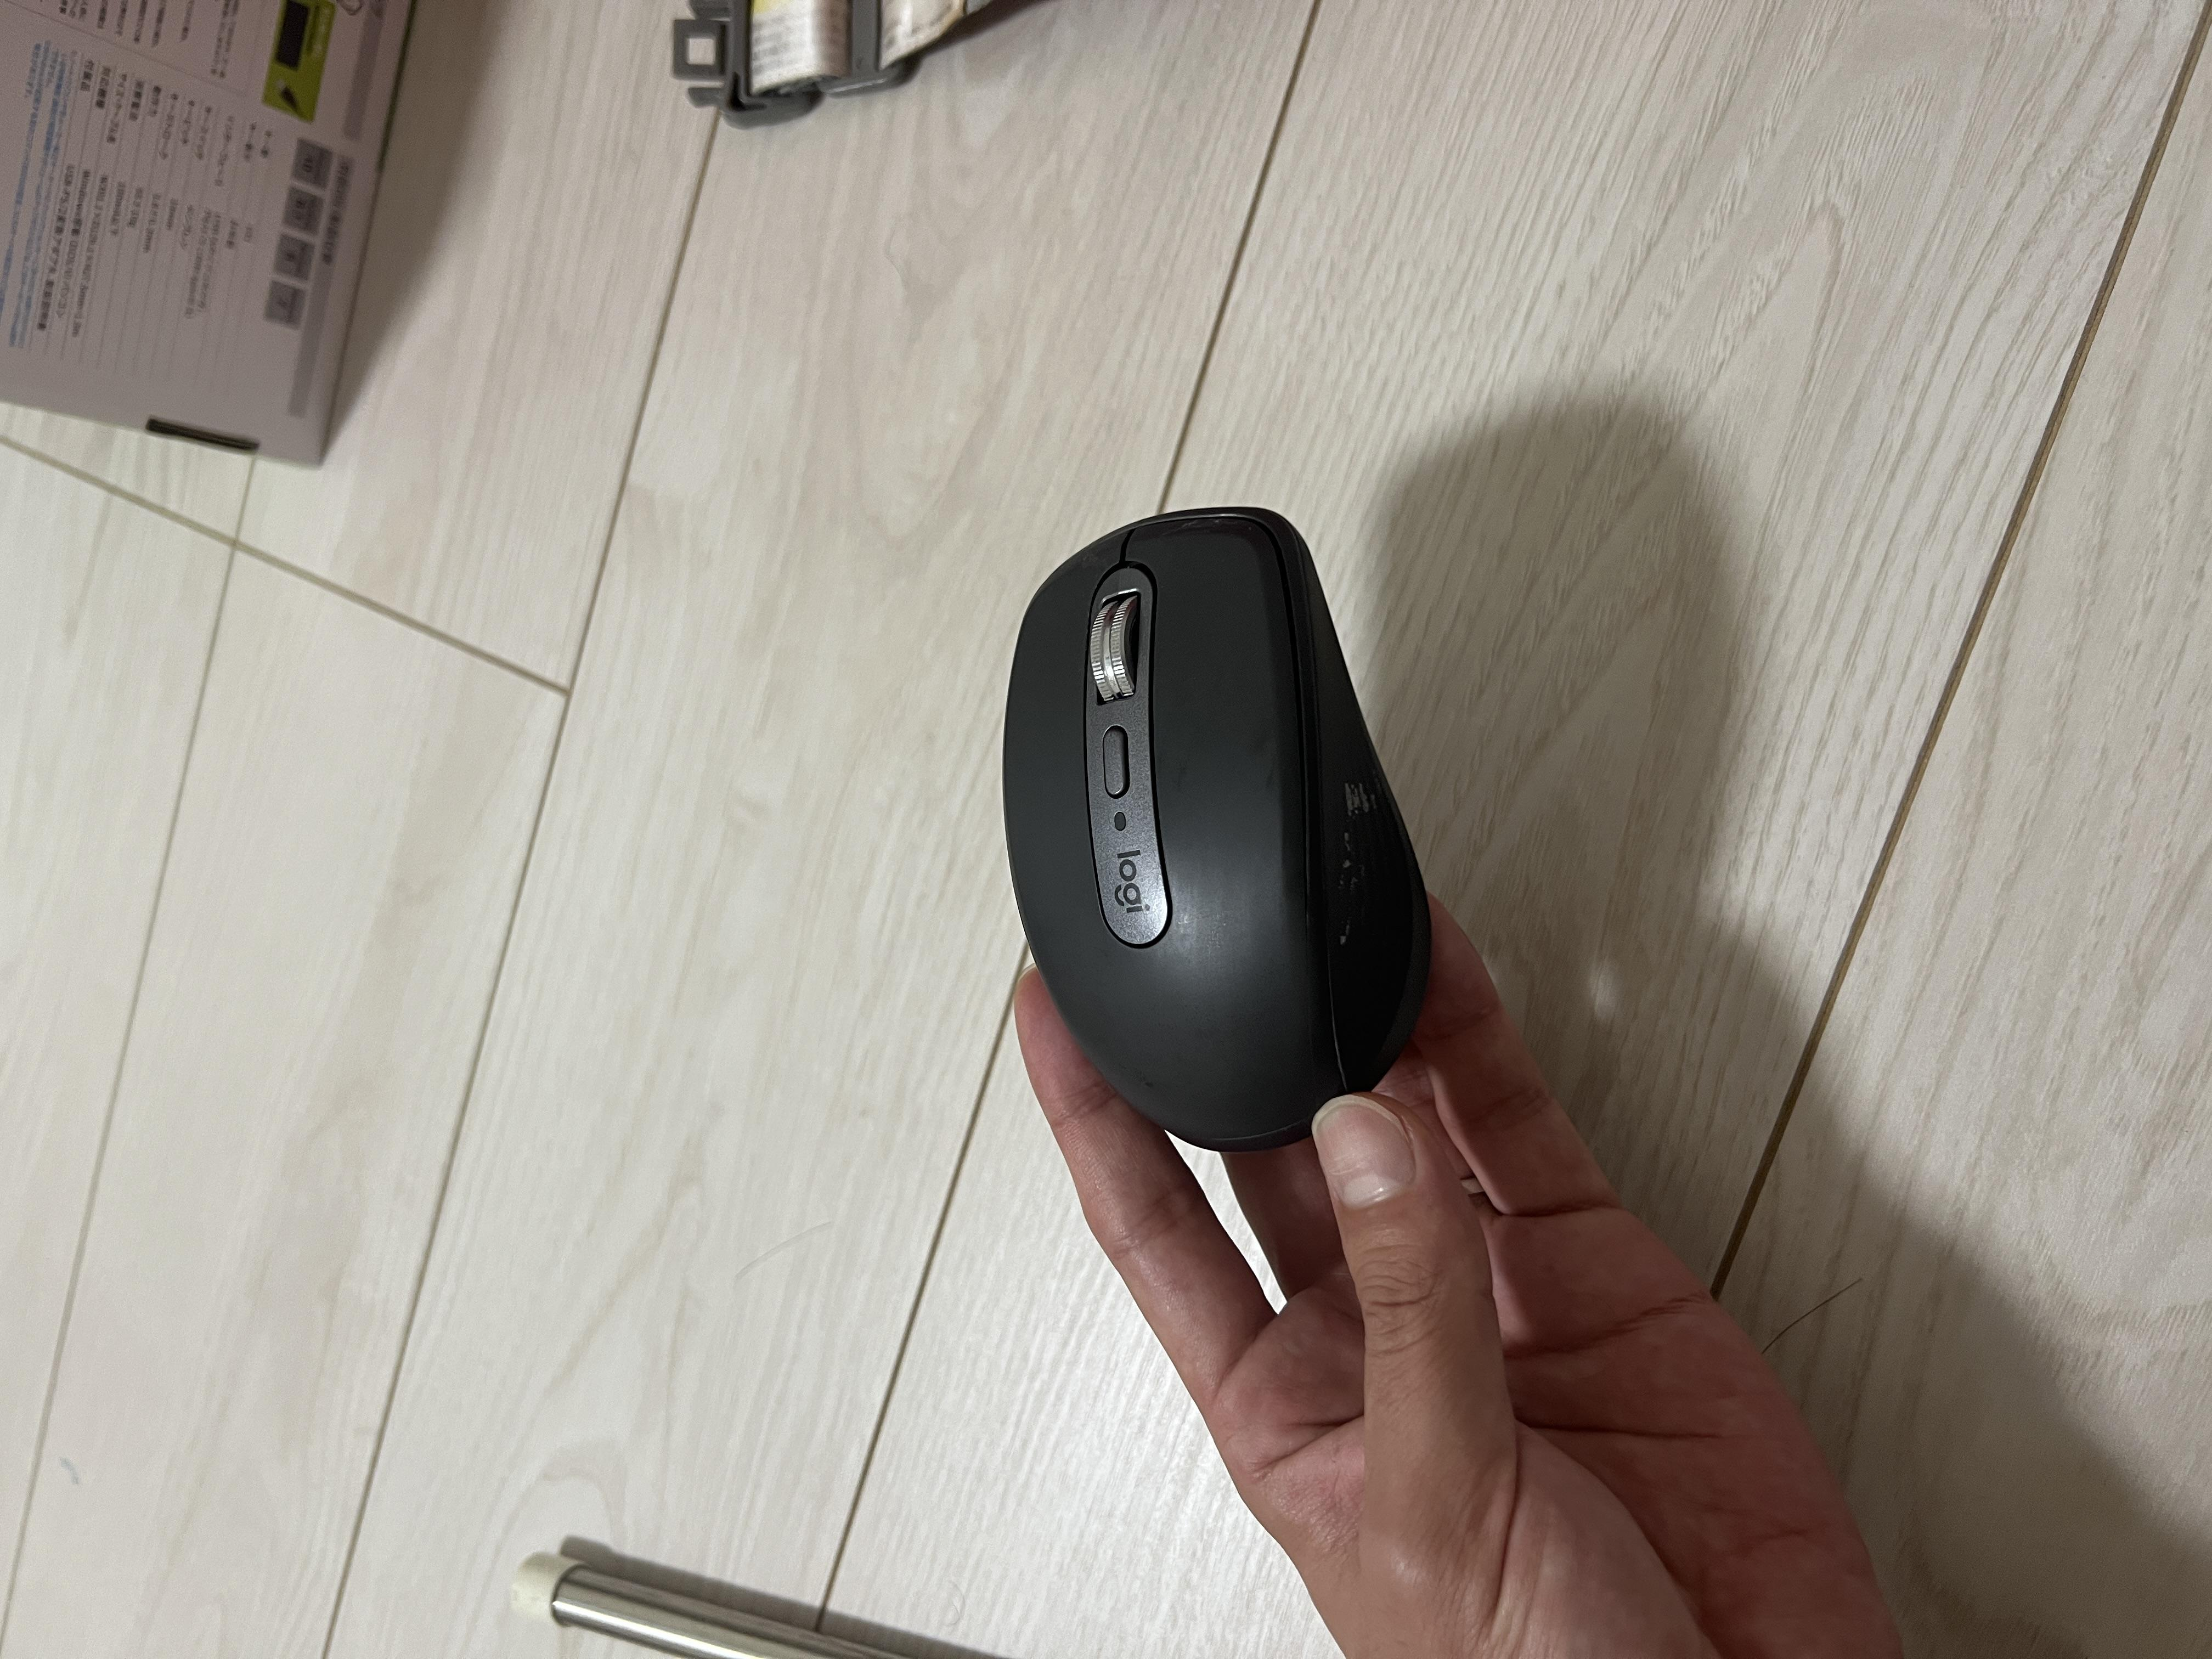mouse: (702, 765, 1583, 1039)
